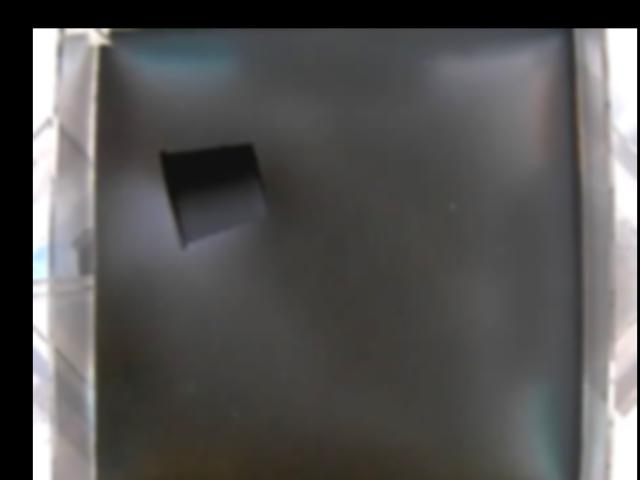Cup: (157, 142, 270, 250)
